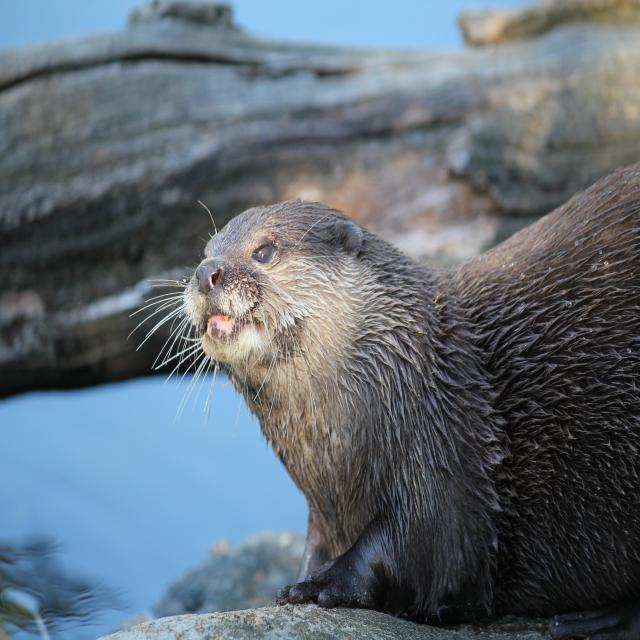otter: (191, 160, 640, 607)
